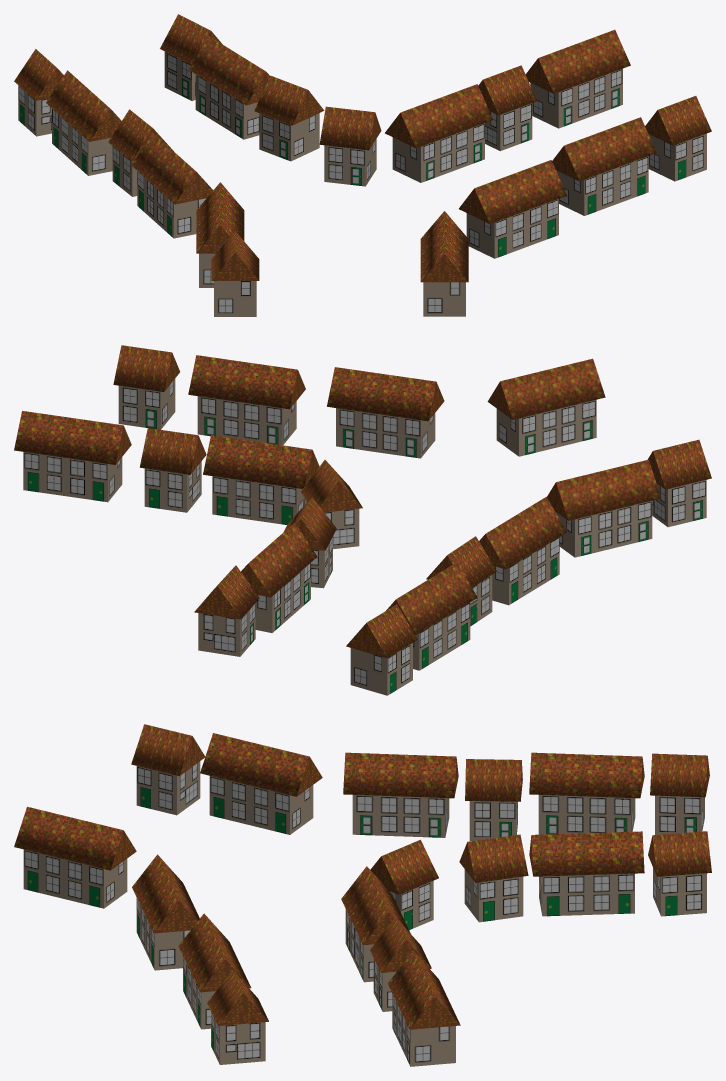
The model's file is no-ground-village.glb.
3 renders of one model, top to bottom at view 1: azimuth 30°, elevation 25°; view 2: azimuth 150°, elevation 25°; view 3: azimuth 270°, elevation 25°, orthographic. The views are drawn at different scales.
Visible parts, largest first — view 1: box_merged (×2), house6, house2, house4, house9, house11, house13, house3, house8, house7, house5, house16 (+4 smaller); view 2: box_merged (×2), house4, house2, house3, house6, house15, house11, house13, house9, house5, house14, house16 (+4 smaller); view 3: house3, house15, house11, house9, house13, box_merged (×2), house4, house16, house2, house8, house10, house14 (+4 smaller).
Part boxes in pixels (left/top/right/bottom): box_merged (×2): left=552, top=96, right=711, bottom=215; house6: left=385, top=84, right=492, bottom=182; house2: left=459, top=160, right=566, bottom=258; house4: left=525, top=29, right=630, bottom=128; house9: left=188, top=36, right=269, bottom=139; house11: left=131, top=133, right=213, bottom=238; house13: left=46, top=70, right=121, bottom=175; house3: left=420, top=211, right=468, bottom=316; house8: left=254, top=75, right=324, bottom=161; house7: left=319, top=106, right=381, bottom=186; house5: left=478, top=65, right=536, bottom=151; house16: left=211, top=231, right=259, bottom=316; box_merged (×2): left=113, top=345, right=305, bottom=445; house4: left=14, top=411, right=131, bottom=502; house2: left=327, top=367, right=444, bottom=458; house3: left=487, top=358, right=605, bottom=456; house6: left=203, top=435, right=319, bottom=524; house15: left=547, top=459, right=661, bottom=557; house11: left=479, top=497, right=566, bottom=605; house13: left=386, top=562, right=477, bottom=670; house9: left=241, top=522, right=317, bottom=632; house5: left=139, top=428, right=206, bottom=512; house14: left=346, top=604, right=417, bottom=695; house16: left=647, top=439, right=711, bottom=527; house3: left=14, top=806, right=136, bottom=908; house15: left=200, top=733, right=322, bottom=834; house11: left=343, top=752, right=458, bottom=837; house9: left=529, top=831, right=644, bottom=916; house13: left=529, top=752, right=644, bottom=834; box_merged (×2): left=178, top=913, right=268, bottom=1064; house4: left=387, top=950, right=460, bottom=1066; house16: left=131, top=724, right=205, bottom=815; house2: left=132, top=854, right=199, bottom=970; house8: left=459, top=834, right=528, bottom=922; house10: left=648, top=831, right=711, bottom=916; house14: left=650, top=753, right=709, bottom=834.
Size of the model in its own units: 14.47 by 1.71 by 15.01.
4 materials, 4 textured.
